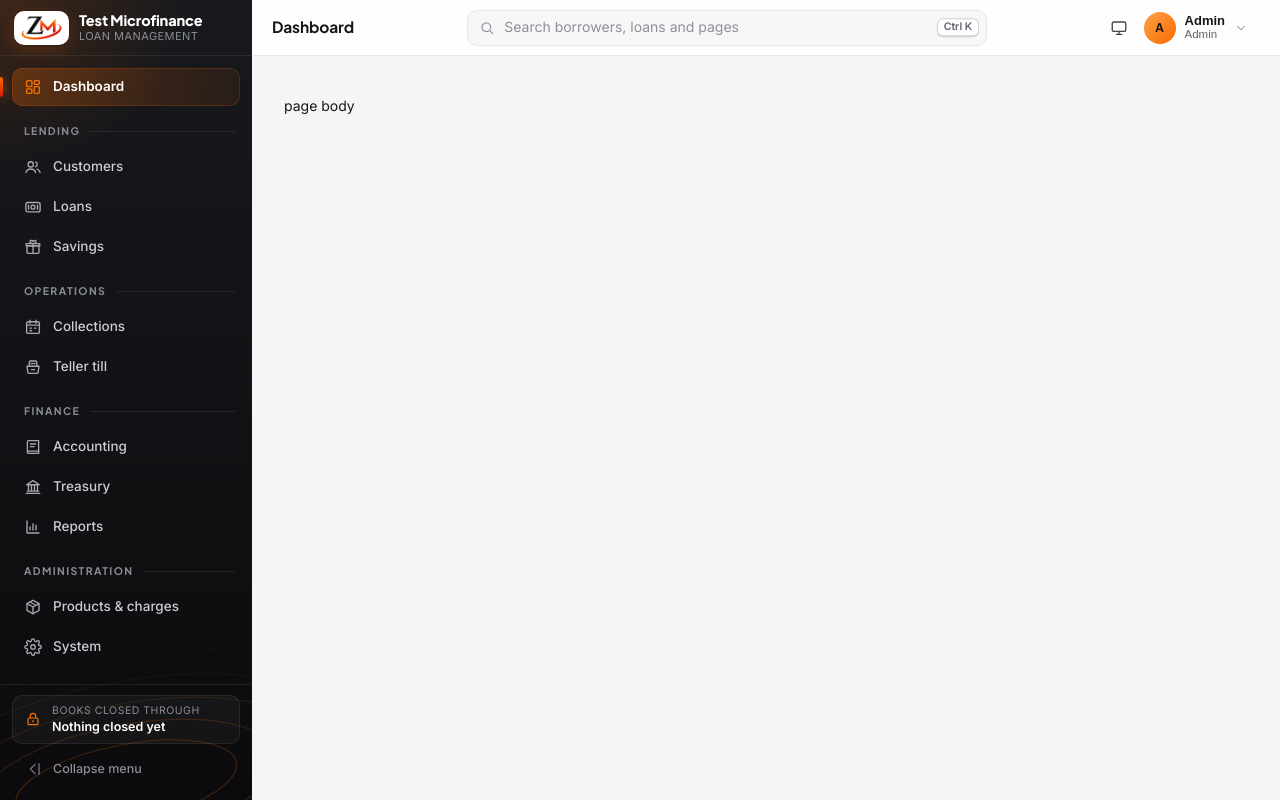
Test: the top bar › finds a page by name from the search box
Type "audit" into the search field. click: (727, 28)
box: [467,10,987,46]
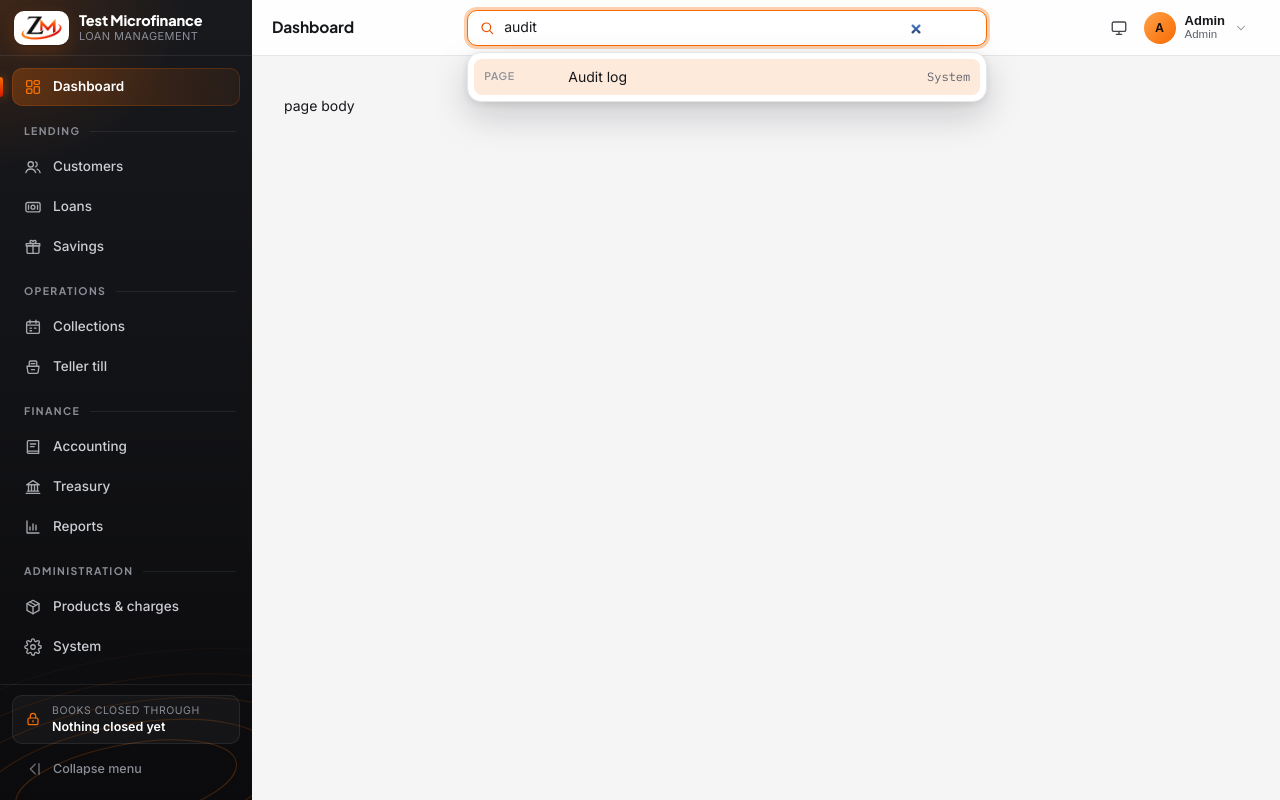
Check: the option "Page Audit log System" is shown, box [474,58,980,95]
Press Enter
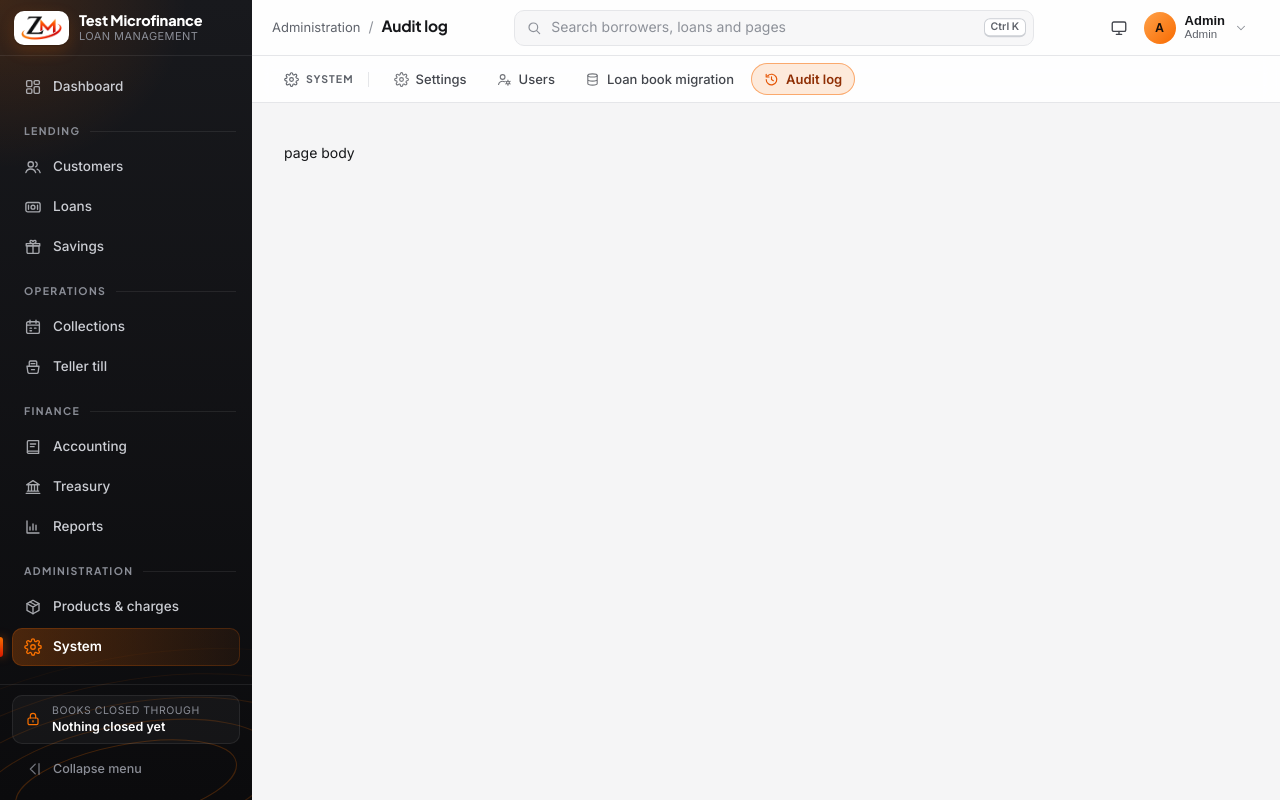
Check: the navigation bar named "System pages" is shown, box [252,56,1279,103]
